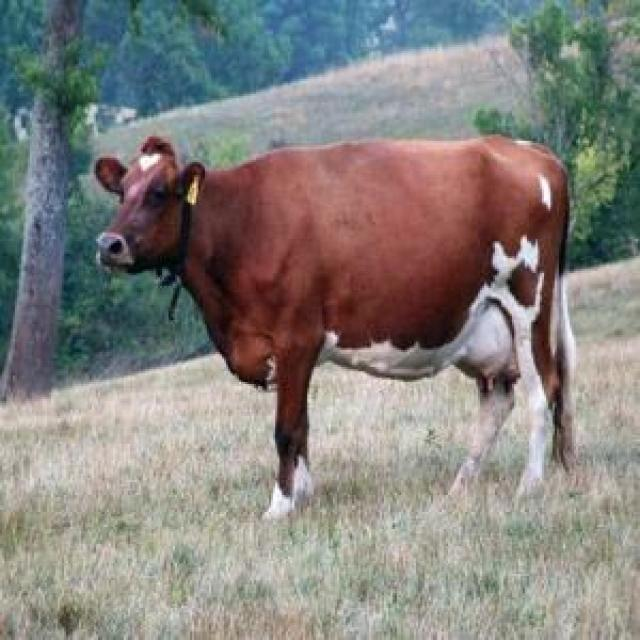cow: (95, 136, 575, 518)
